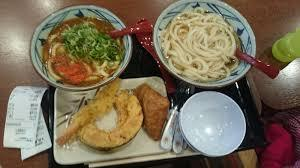pumpkin: (83, 94, 140, 150)
